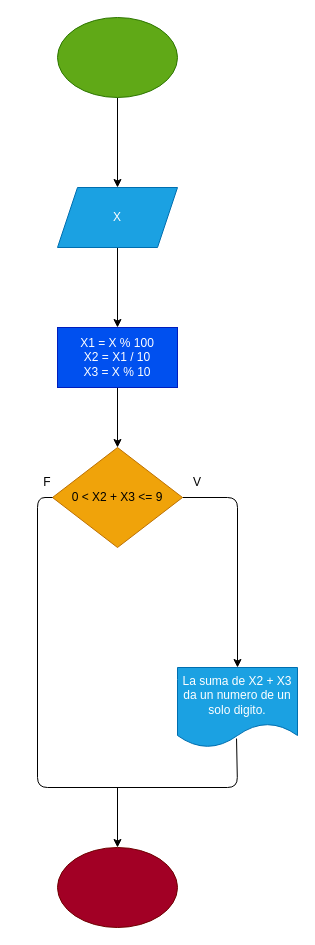
Image size: 315x945. Some labels were removed from this diagram. The shapes that lost their labels are listed below. From the top down, each one's box as (x1, y1, x2, y2) in pixels, then its label:
(56, 16, 178, 98): INICIO
(56, 846, 178, 928): FIN
